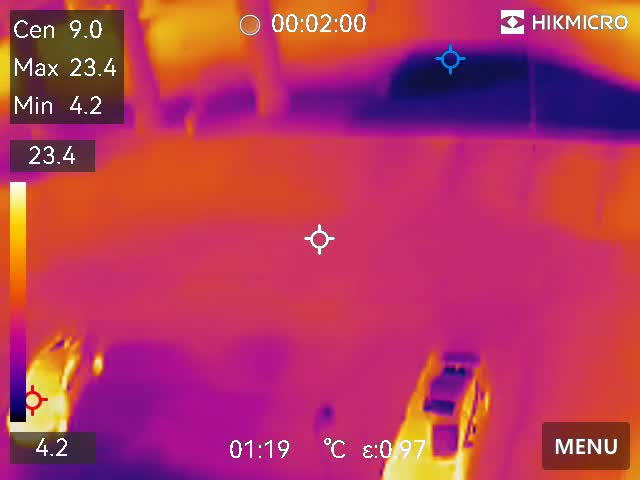smallCar: (381, 330, 494, 480)
vehicle: (7, 330, 107, 459)
